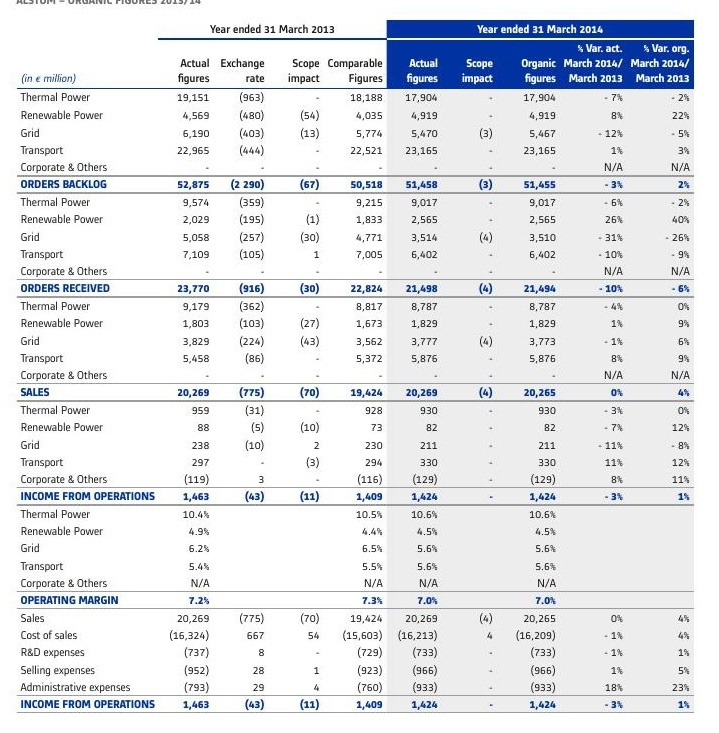table: (0, 0, 719, 733)
